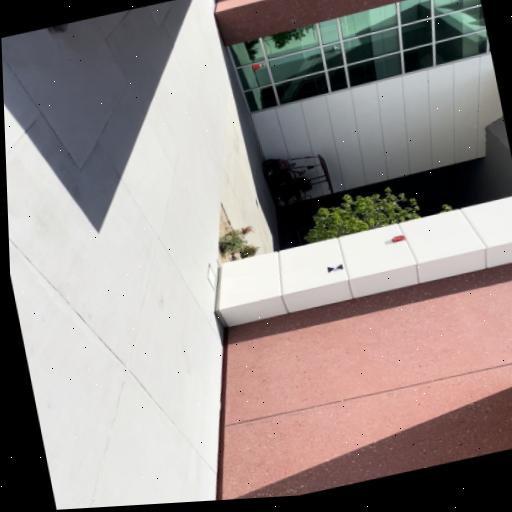target6: (327, 263, 343, 273)
